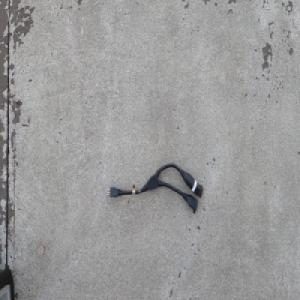Wire: (105, 162, 203, 215)
